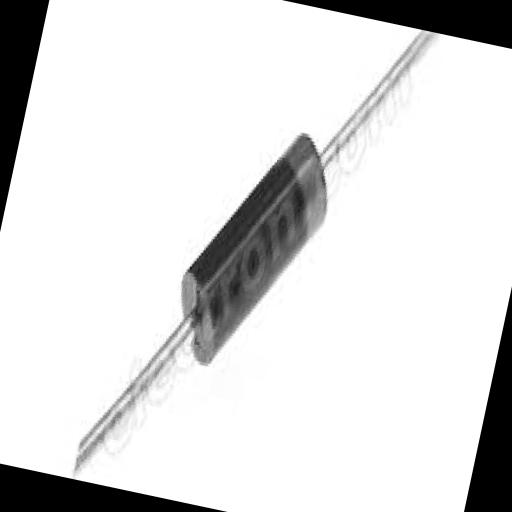DIODE: (70, 0, 435, 512)
